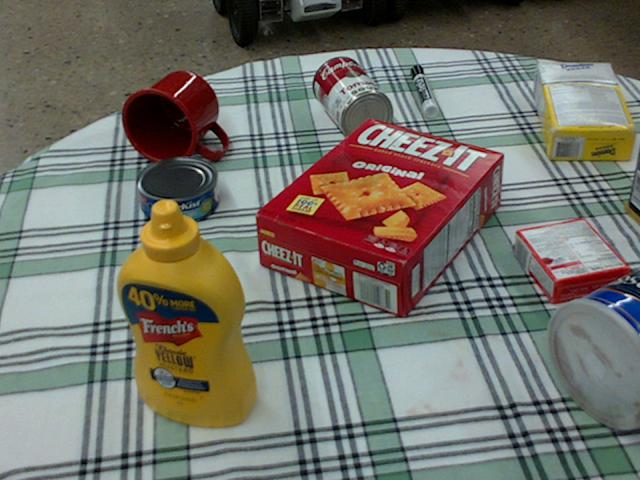cracker_box: (254, 119, 505, 317)
gelatin_box: (513, 217, 627, 300)
large_marker: (410, 65, 437, 116)
master_chef_can: (549, 268, 639, 429)
mug: (121, 70, 226, 164)
mustard_bottle: (116, 199, 258, 425)
potted_meat_can: (622, 137, 639, 225)
sugar_box: (533, 61, 637, 162)
tomato_soup_can: (312, 55, 392, 140)
tuna_fish_can: (134, 155, 218, 223)
